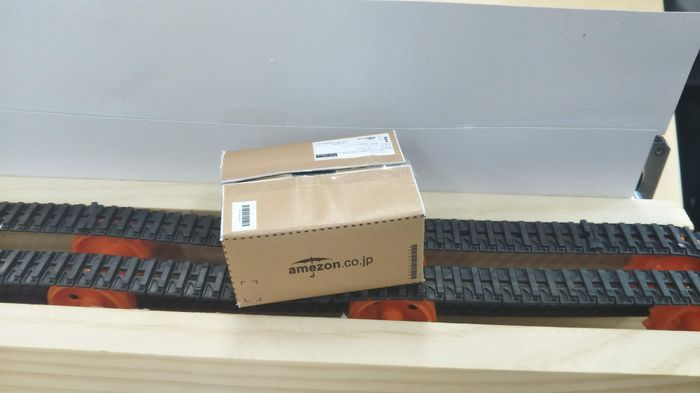box1: (214, 126, 427, 311)
